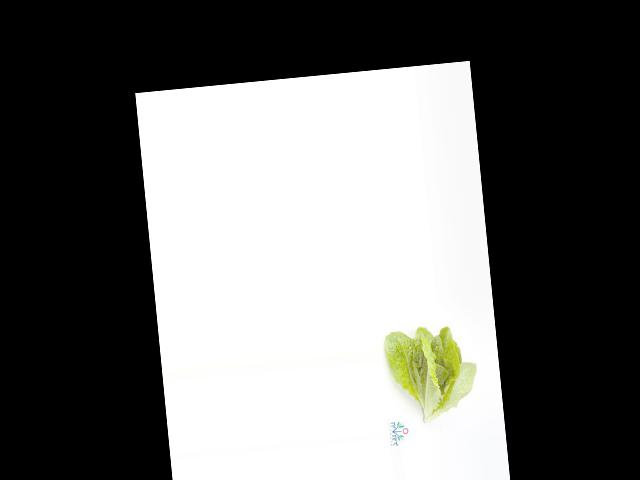lettuce: (342, 341, 477, 443)
